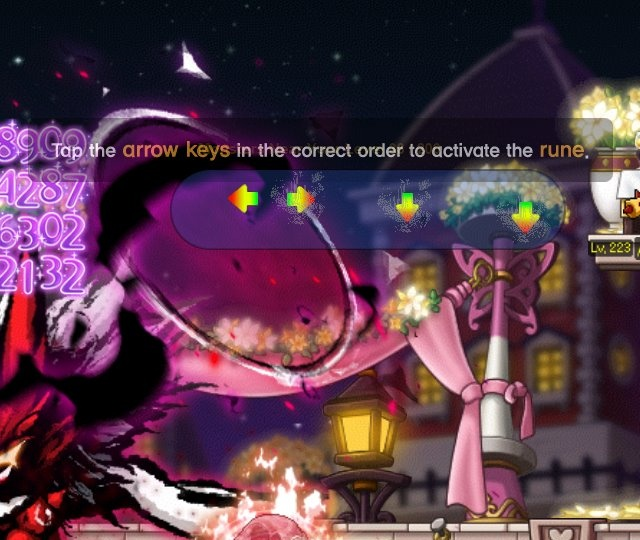down: (387, 184, 427, 230), (506, 196, 544, 236)
left: (220, 179, 264, 217)
right: (281, 179, 322, 223)
